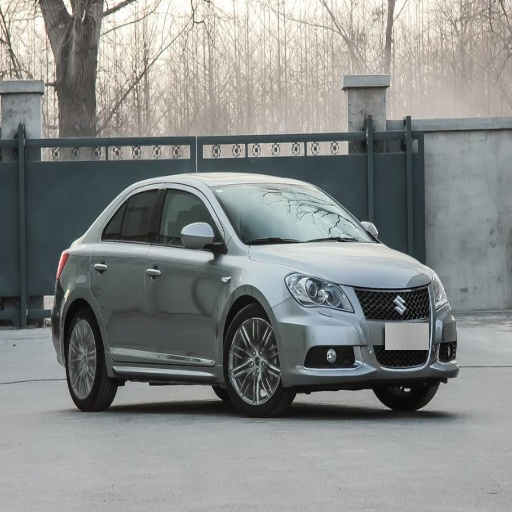back_right_door: (91, 185, 163, 362)
front_bumper: (275, 280, 456, 382)
front_right_door: (147, 186, 223, 359)
front_right_light: (286, 270, 352, 310)
